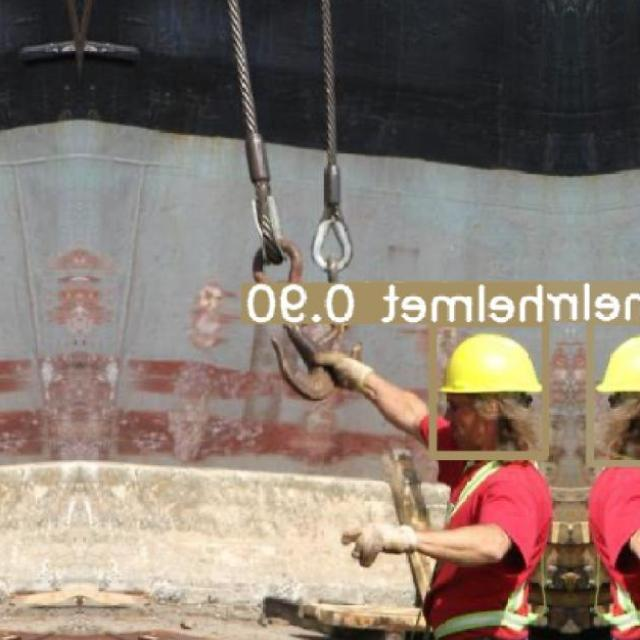helmet: (438, 332, 544, 394), (596, 333, 640, 394)
